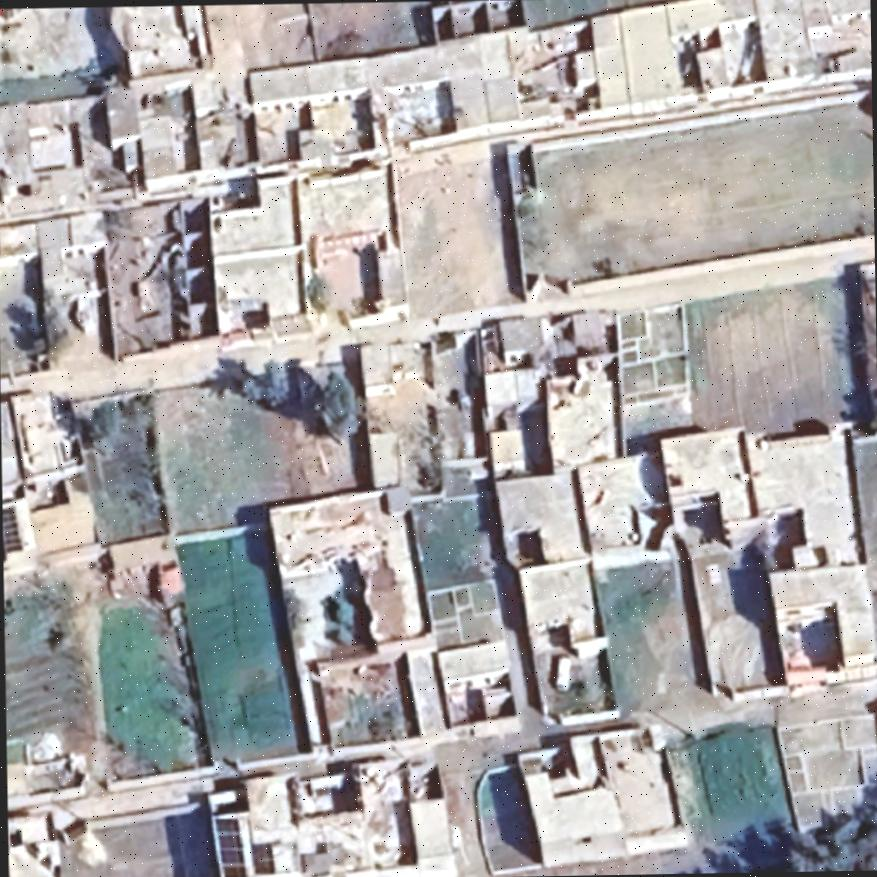Solarpanel: (207, 804, 249, 877), (1, 499, 26, 564), (245, 832, 278, 877)
